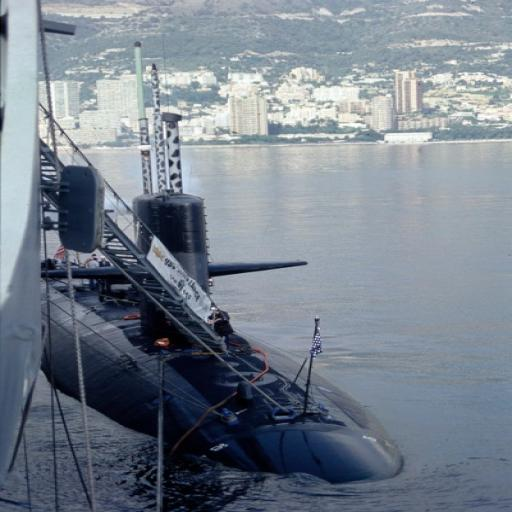submarine: (43, 197, 411, 485)
